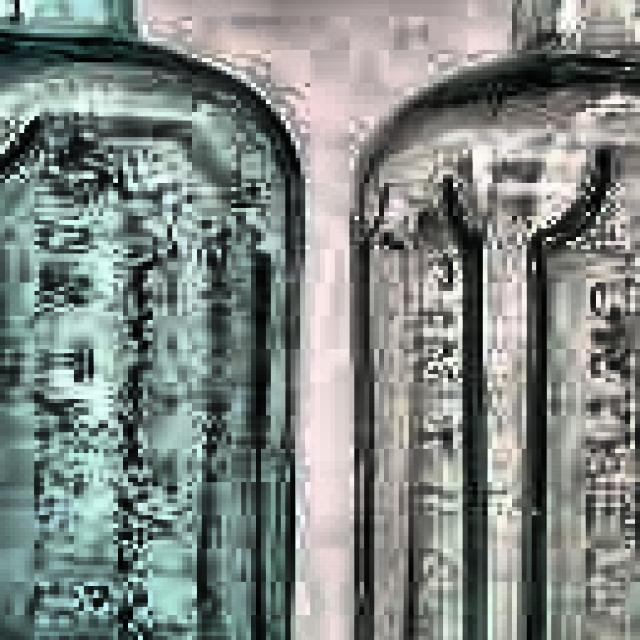glass: (353, 0, 640, 640)
